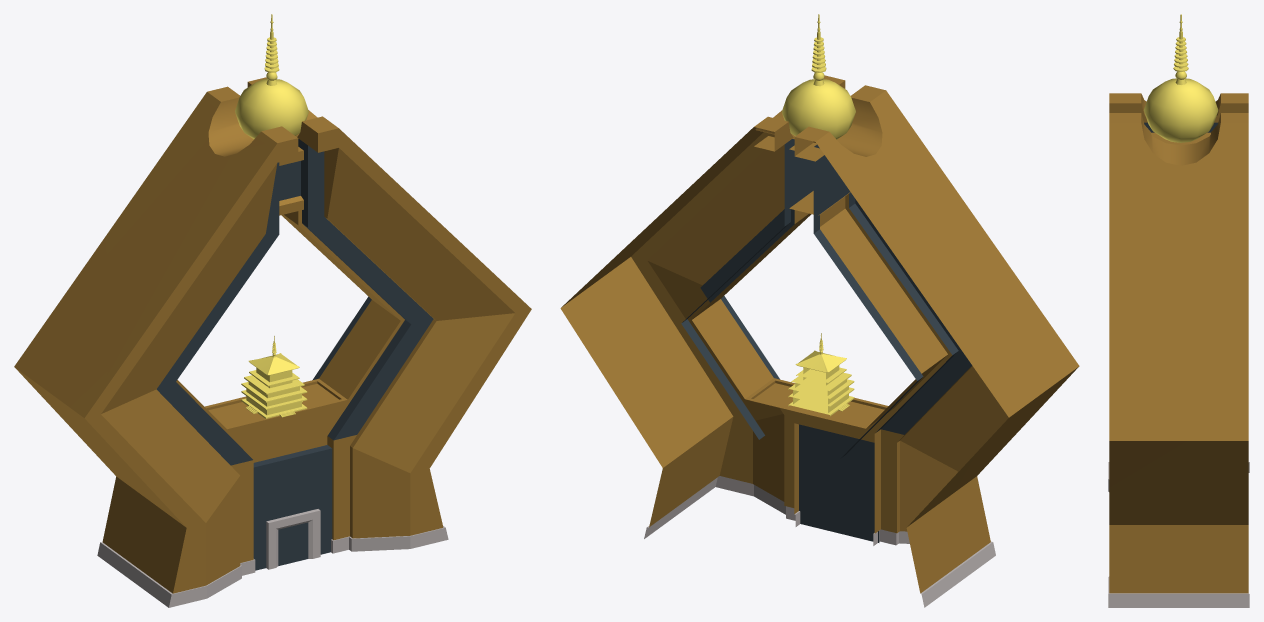
File: FaMenSi.fbx
The picture shows the model from 3 angles, left to right: view 1: azimuth 30°, elevation 25°; view 2: azimuth 150°, elevation 25°; view 3: azimuth 270°, elevation 25°; orthographic projection.
Parts seen in each view (by area): view 1: FaMenSi; view 2: FaMenSi; view 3: FaMenSi.
Boxes of the visible parts, x1,y1,x2,y2 form: FaMenSi: (14, 14, 531, 607); FaMenSi: (560, 14, 1079, 607); FaMenSi: (1108, 14, 1249, 607).
Bounding box in the file's own units: 432 × 492 × 120.
